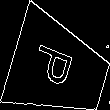P_E: (34, 43, 84, 95)
